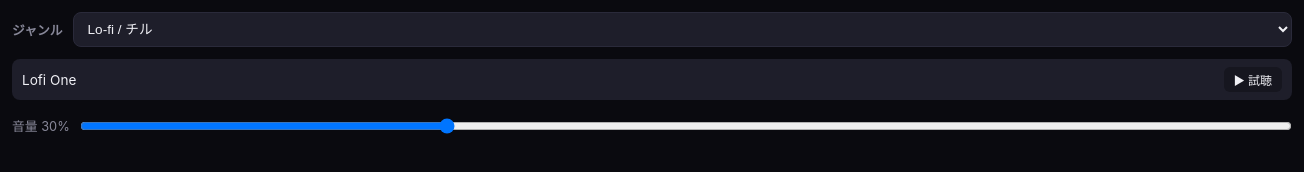
Test: MusicPicker genre select › switches the visible track list when a different genre is selected
Select "ポップ / アップビート" in the dropdown labelled "ジャンル" at (682, 30), box [73,12,1292,47]
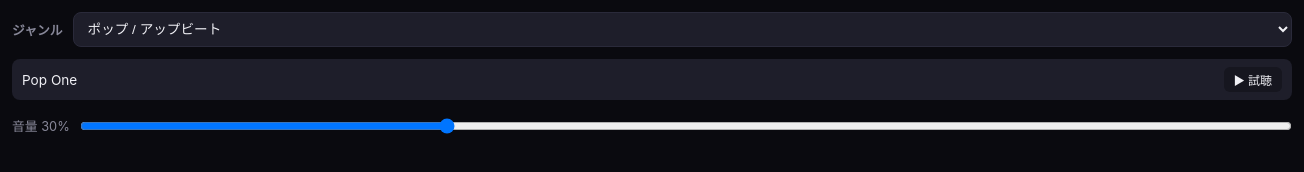
Check: the button "Pop One" is shown, box [22,72,1216,88]
Check: the button "Lofi One" is gone
